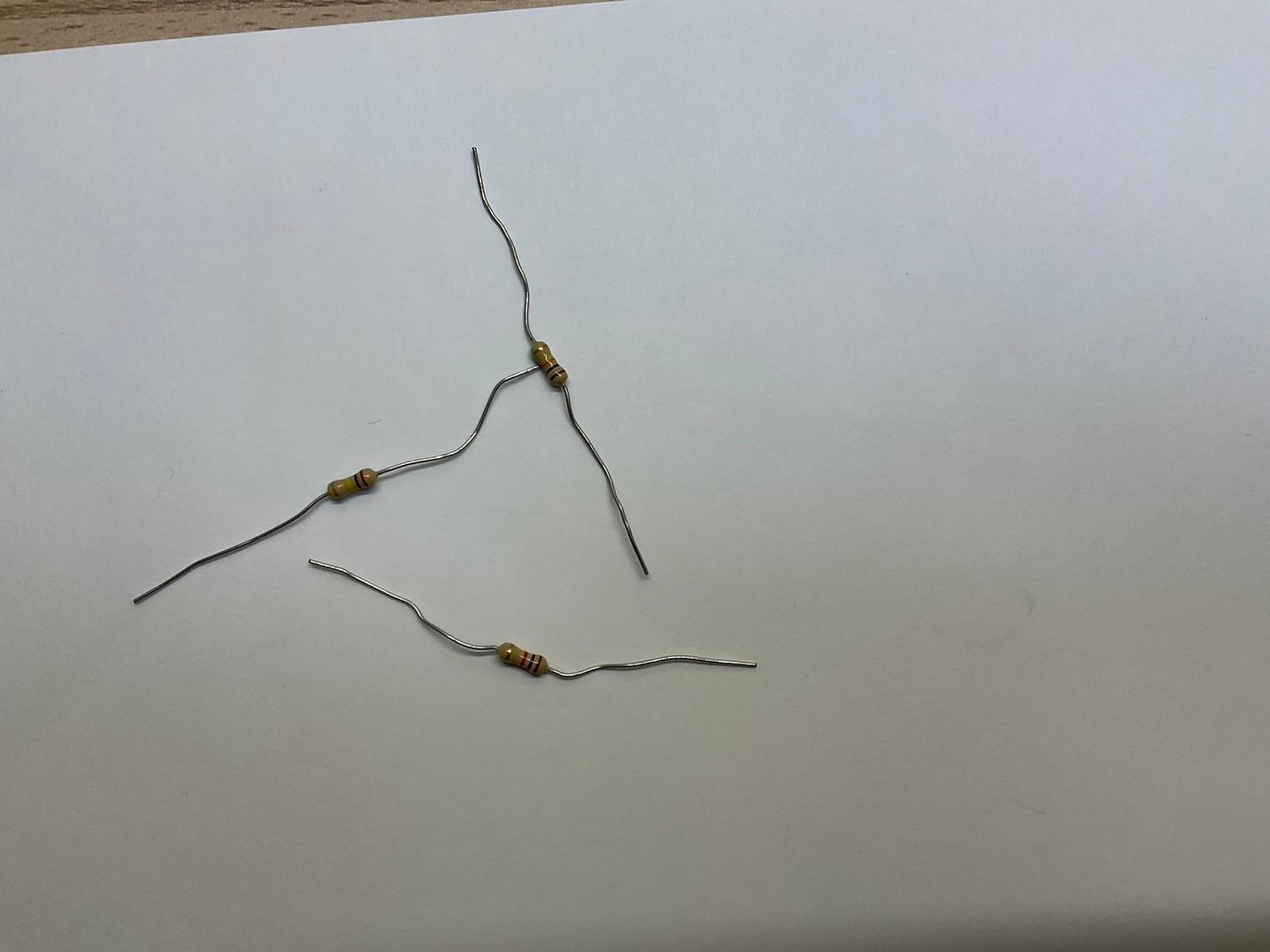resistor: (319, 467, 377, 504), (528, 340, 570, 390), (495, 638, 548, 677)
